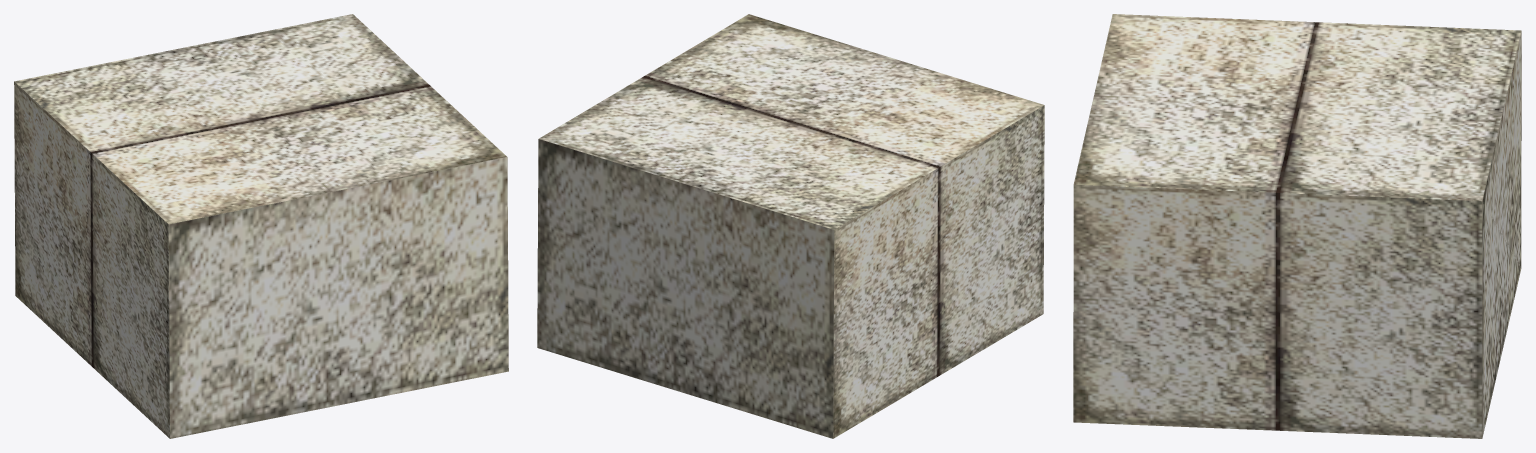
File: stone_7.glb
The picture shows the model from 3 angles, left to right: view 1: azimuth 30°, elevation 25°; view 2: azimuth 150°, elevation 25°; view 3: azimuth 270°, elevation 25°; orthographic projection. The views are drawn at different scales.
Parts seen in each view (by area): view 1: stone_7.001; view 2: stone_7.001; view 3: stone_7.001.
Boxes of the visible parts, x1=… form: stone_7.001: x1=14, y1=14, x2=508, y2=438; stone_7.001: x1=537, y1=14, x2=1044, y2=438; stone_7.001: x1=1073, y1=14, x2=1521, y2=438.
Size of the model in its own units: 64.09 by 37.62 by 63.82.
Materials: 1 (1 with a texture image).
